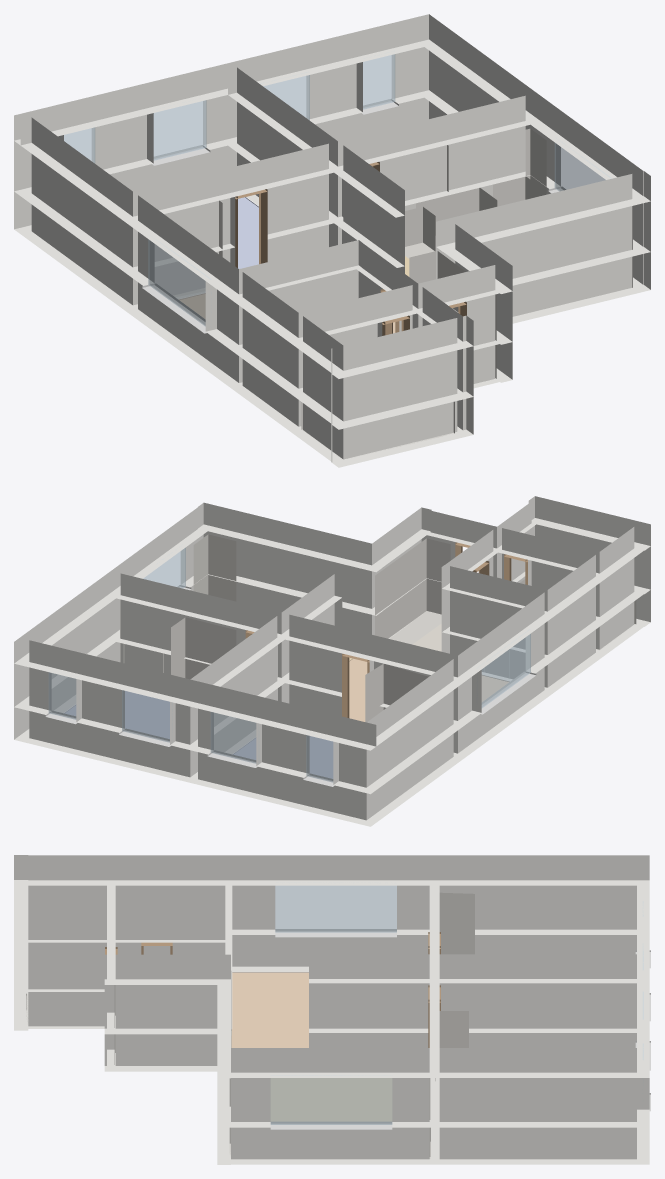
3 renders of one model, top to bottom at view 1: azimuth 30°, elevation 25°; view 2: azimuth 150°, elevation 25°; view 3: azimuth 270°, elevation 25°, orthographic. The views are drawn at different scales.
Visible parts, largest first — view 1: walls, window_6, window_0, window_3, furniture_5_appliance, floor_0_Bed_Room, furniture_11_sink, window_5, furniture_4_closet, furniture_2_closet, window_1, furniture_6_appliance (+3 smaller); view 2: walls, furniture_4_closet, furniture_1_closet, furniture_3_closet, window_6, window_1, furniture_0_closet, window_0, floor_1_Bed_Room, floor_2_Living_Room, window_3, window_2 (+4 smaller); view 3: walls, floor_2_Living_Room, window_6, window_5, floor_3_Kitchen, furniture_0_closet, furniture_1_closet, sill_6, sill_5.
Part boxes in pixels (x1,y1,x2,y2): walls: (14,14,650,467); window_6: (148,239,211,326); window_0: (150,100,206,160); window_3: (359,54,395,109); furniture_5_appliance: (416,188,497,250); floor_0_Bed_Room: (238,197,258,268); furniture_11_sink: (405,207,435,258); window_5: (554,138,611,191); furniture_4_closet: (409,251,496,381); furniture_2_closet: (525,128,546,195); window_1: (261,72,309,120); furniture_6_appliance: (493,176,542,206); walls: (14,496,650,826); furniture_4_closet: (375,538,450,644); furniture_1_closet: (171,617,236,679); furniture_3_closet: (193,534,236,601); window_6: (477,629,530,707); window_1: (122,690,172,742); furniture_0_closet: (365,663,428,722); window_0: (210,712,256,763); floor_1_Bed_Room: (64,691,169,738); floor_2_Living_Room: (349,658,509,721); window_3: (48,672,76,719); window_2: (306,735,333,782); walls: (14,855,649,1164); floor_2_Living_Room: (231,972,308,1047); window_6: (275,885,396,932); window_5: (270,1075,392,1124); floor_3_Kitchen: (271,1078,391,1121); furniture_0_closet: (439,892,474,954); furniture_1_closet: (435,1011,468,1080); sill_6: (275,929,396,937); sill_5: (270,1124,392,1129).
Size of the model in its own units: 10.35 by 2.72 by 14.
